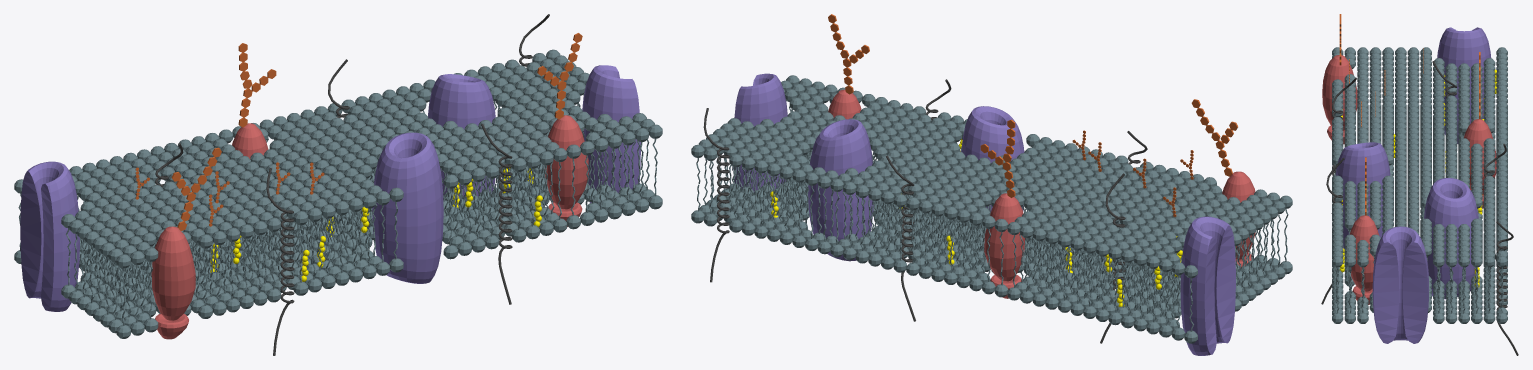
Rendered from cell_membrane_v1.0.glb.
3 views of the same model, side by side, from view 1: azimuth 30°, elevation 25°; view 2: azimuth 150°, elevation 25°; view 3: azimuth 270°, elevation 25° (orthographic). The views are drawn at different scales.
Size of the model in its own units: 2.08 by 0.8391 by 0.8069.
